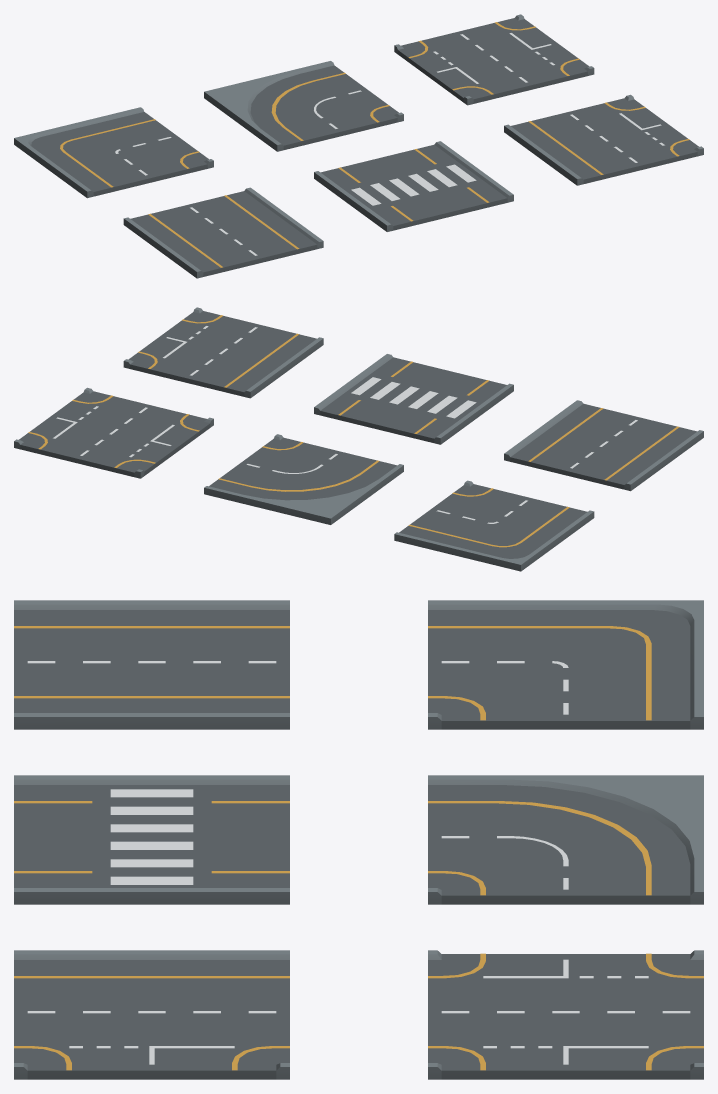
File: Road Bits.glb
The picture shows the model from 3 angles, top to bottom: view 1: azimuth 30°, elevation 25°; view 2: azimuth 150°, elevation 25°; view 3: azimuth 270°, elevation 25°; orthographic projection. The views are drawn at different scales.
Visible parts, largest first — view 1: road_corner, road_corner_curved, road_straight, road_straight_crossing, road_junction, road_tsplit; view 2: road_straight, road_straight_crossing, road_tsplit, road_corner, road_junction, road_corner_curved; view 3: road_corner, road_corner_curved, road_straight, road_straight_crossing, road_tsplit, road_junction.
Boxes of the visible parts, x1,y1,x2,y2 form: road_corner: (14,107,213,198); road_corner_curved: (204,61,403,151); road_straight: (123,187,323,278); road_straight_crossing: (314,141,513,231); road_junction: (394,14,594,105); road_tsplit: (504,94,703,185); road_straight: (504,400,703,491); road_straight_crossing: (314,354,513,444); road_tsplit: (123,307,323,398); road_corner: (394,480,594,571); road_junction: (14,387,213,478); road_corner_curved: (204,434,403,524); road_corner: (428,600,703,729); road_corner_curved: (428,775,703,904); road_straight: (14,600,289,729); road_straight_crossing: (14,775,289,904); road_tsplit: (14,950,289,1079); road_junction: (428,950,703,1079).
Size of the model in its own units: 8 by 0.1 by 5.
Materials: 1 (1 with a texture image).
